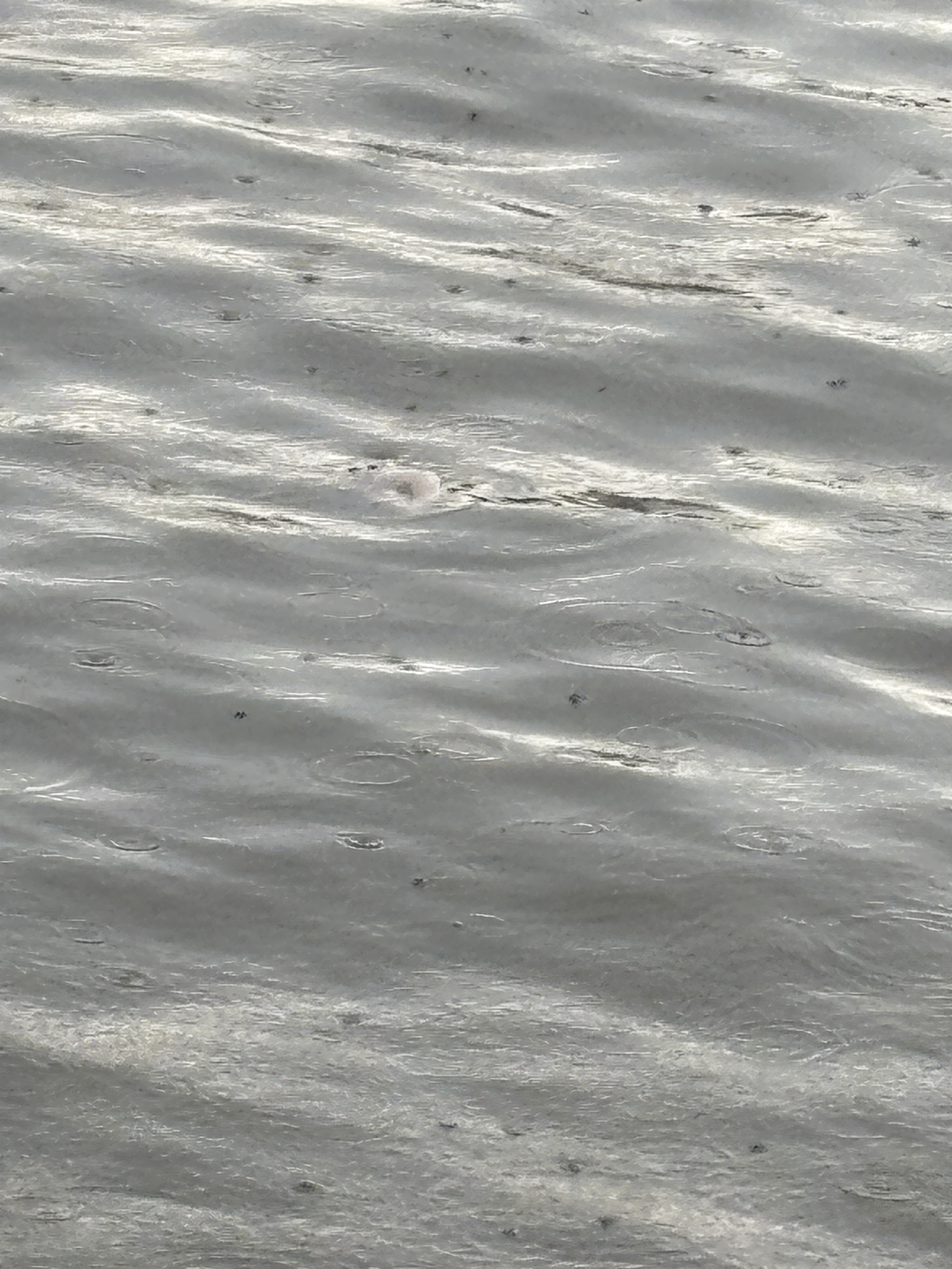Plastic wastes: (344, 673, 389, 791)
